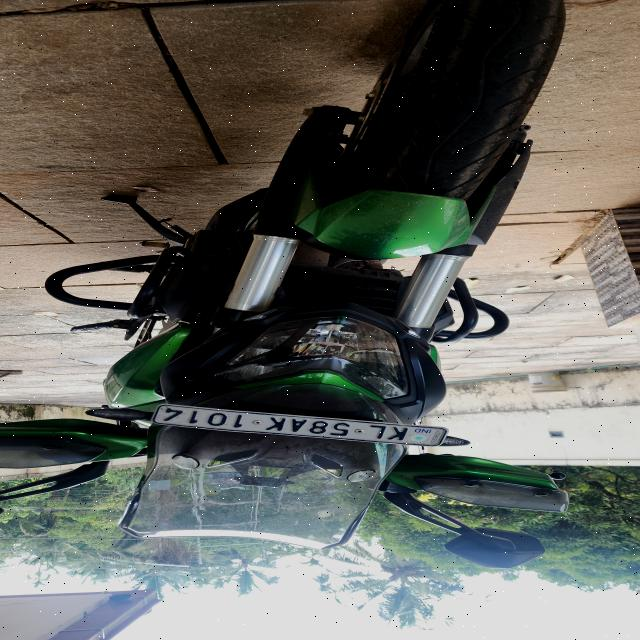headlight: (213, 315, 415, 400)
